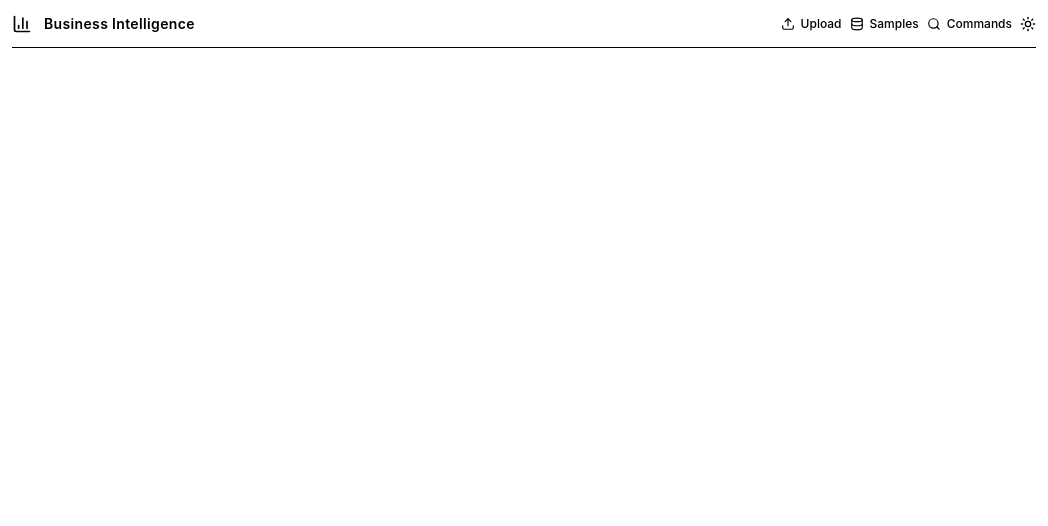
Scenario: Toolbar › opens and closes the samples dropdown
Click the button "Samples" at (884, 24), box [850,16,919,32]
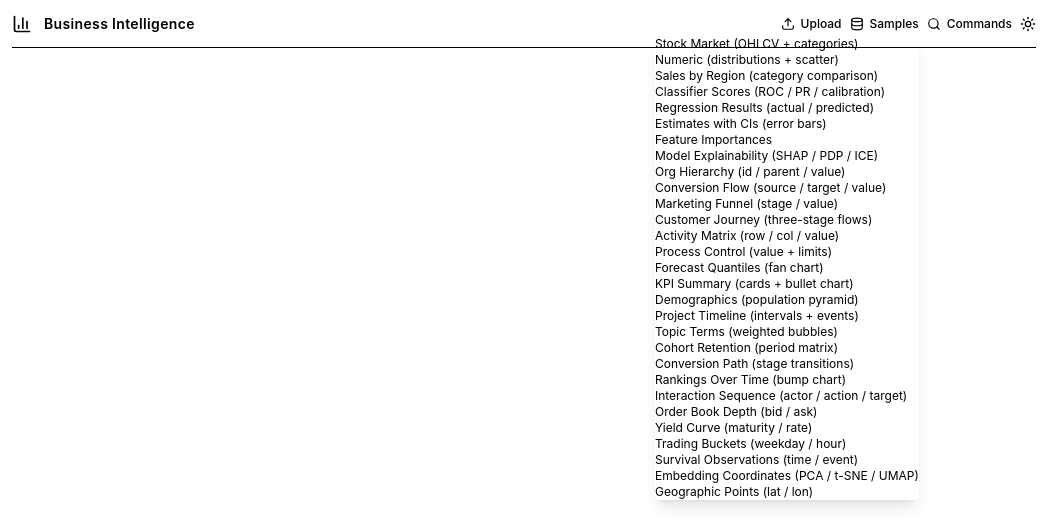
Expected: the menu item "Stock Market (OHLCV + categories)" is shown, [655,36,858,51]
